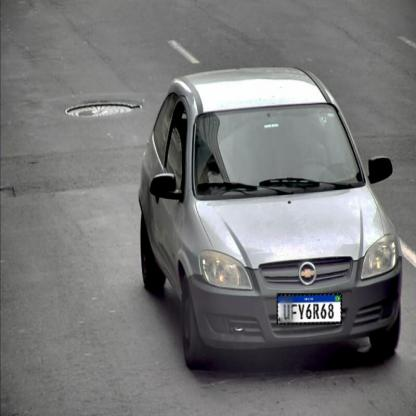PlacaM: (277, 294, 342, 324)
